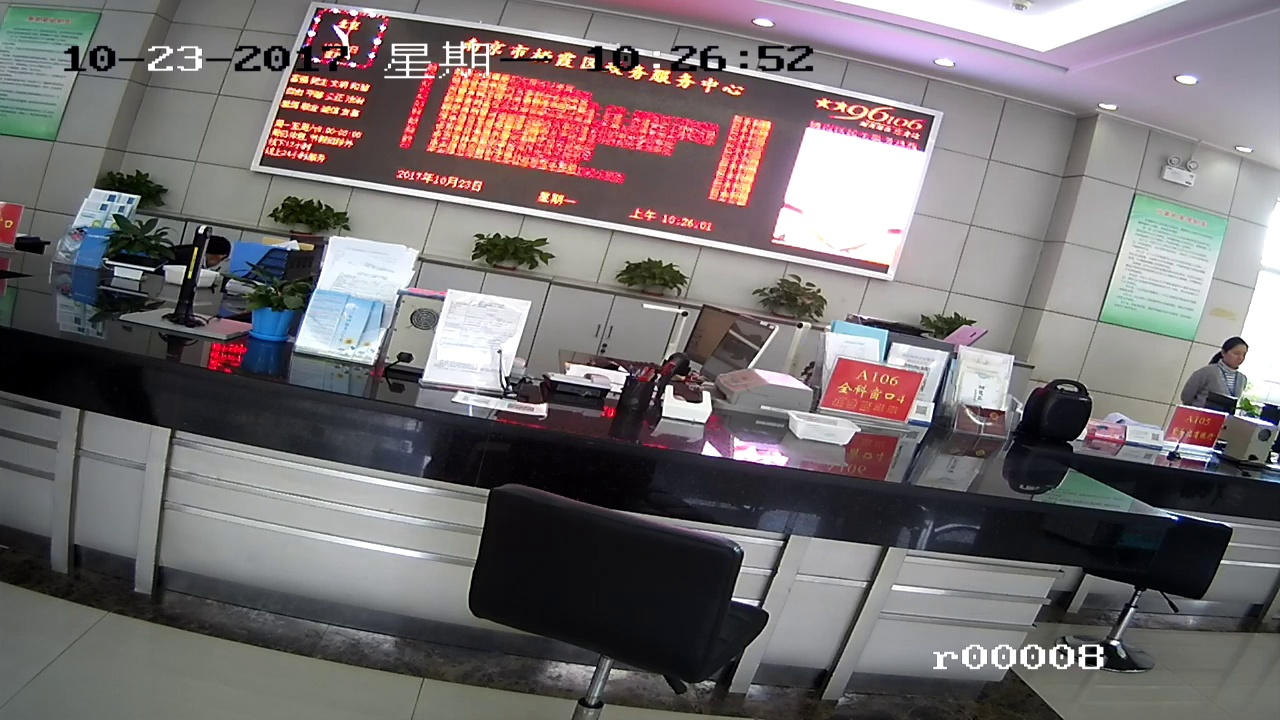billboard: (1127, 200, 1210, 341), (829, 354, 923, 425), (10, 12, 64, 135)
chair: (466, 491, 781, 714)
monitor: (299, 34, 838, 231)
person: (1196, 331, 1266, 405)
pot: (268, 193, 368, 234), (762, 264, 828, 316), (475, 231, 547, 273), (623, 259, 686, 303)
